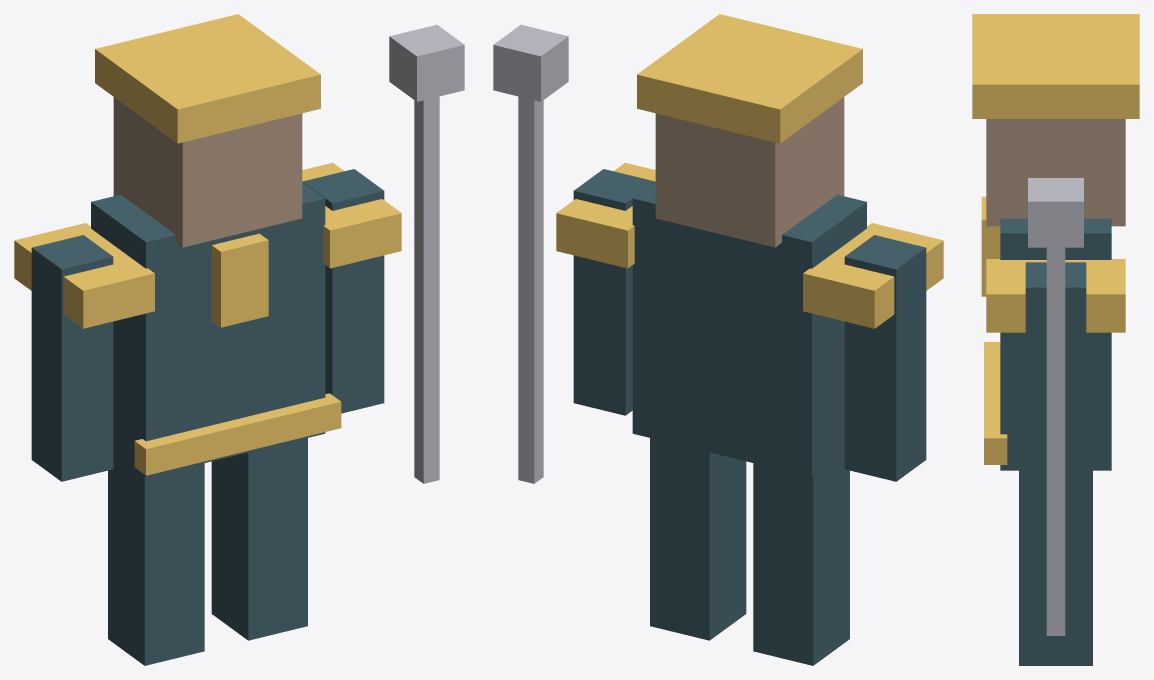
Rendered from 08_luma_dubwater_fixer_near_sanctuary.glb.
3 renders of one model, left to right at view 1: azimuth 30°, elevation 25°; view 2: azimuth 150°, elevation 25°; view 3: azimuth 270°, elevation 25°, orthographic.
Parts seen in each view (by area): view 1: Luma Dubwater, Fixer near Sanctuary; view 2: Luma Dubwater, Fixer near Sanctuary; view 3: Luma Dubwater, Fixer near Sanctuary.
Boxes of the visible parts, box(x1,y1,x2,y2) form: Luma Dubwater, Fixer near Sanctuary: box(14, 14, 464, 665); Luma Dubwater, Fixer near Sanctuary: box(493, 14, 943, 665); Luma Dubwater, Fixer near Sanctuary: box(972, 14, 1139, 665).
Bounding box in the file's own units: 1.09 × 1.48 × 0.388.
